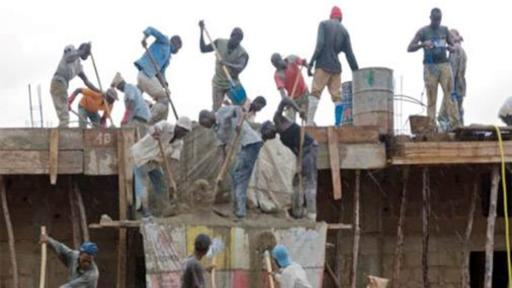unsafe person: (405, 6, 473, 127), (197, 108, 263, 213), (131, 117, 197, 207), (197, 11, 258, 107), (314, 1, 355, 117), (134, 25, 186, 115), (38, 226, 109, 283), (48, 36, 86, 120), (265, 51, 311, 119), (177, 231, 220, 286), (109, 69, 150, 120), (266, 244, 317, 282), (71, 87, 119, 123)
